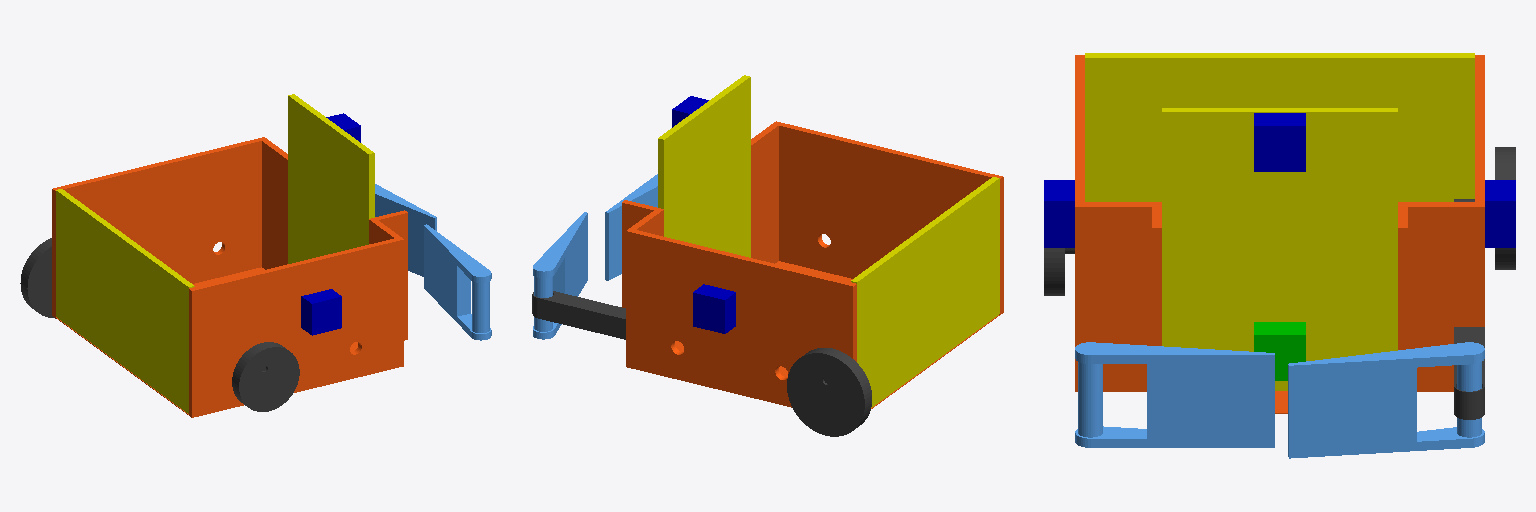
The robot description file, URDF, robot "final_description":
<?xml version="1.0" encoding="utf-8"?>

<robot
  name="final_description">

  <material name="black">
    <color rgba="0.0 0.0 0.0 1.0"/>
  </material>

  <material name="blue">
    <color rgba="0.0 0.0 0.8 1.0"/>
  </material>

  <material name="green">
    <color rgba="0.0 0.8 0.0 1.0"/>
  </material>

  <material name="grey">
    <color rgba="0.3 0.3 0.3 1.0"/>
  </material>

  <material name="orange">
    <color rgba="1 0.4 0.1 1"/>
  </material>

  <material name="red">
    <color rgba="0.8 0.0 0.0 1.0"/>
  </material>

  <material name="white">
    <color rgba="1.0 1.0 1.0 1.0"/>
  </material>

  <material name="yellow">
    <color rgba="0.9 0.9 0 1.0"/>
  </material>

  <material name="cyan">
    <color rgba="0.4 0.7 1 1.0"/>
  </material>

  <link
    name="base_link">
    <inertial>
      <origin
        xyz="0.045732 0.09332 1.1107E-16"
        rpy="0 0 0" />
      <mass
        value="2.0304" />
      <inertia
        ixx="0.072006"
        ixy="-0.00042676"
        ixz="-3.7413E-17"
        iyy="0.092836"
        iyz="-5.2298E-18"
        izz="0.036075" />
    </inertial>
    <visual>
      <origin
        xyz="0 0 0"
        rpy="0 0 0" />
      <geometry>
        <mesh
          filename="package://final_description/meshes/base_link.STL" />
      </geometry>
      <material
        name="orange">
      </material>
    </visual>
    <collision>
      <origin
        xyz="0 0 0"
        rpy="0 0 0" />
      <geometry>
        <mesh
          filename="package://final_description/meshes/base_link.STL" />
      </geometry>
    </collision>
  </link>
  <link
    name="B">
    <inertial>
      <origin
        xyz="0.005 0.1 2.2811E-17"
        rpy="0 0 0" />
      <mass
        value="0.76" />
      <inertia
        ixx="0.011679"
        ixy="1.0729E-20"
        ixz="1.7754E-20"
        iyy="0.0091517"
        iyz="1.7658E-19"
        izz="0.0025397" />
    </inertial>
    <visual>
      <origin
        xyz="0.175 0 0"
        rpy="0 0 0" />
      <geometry>
        <mesh
          filename="package://final_description/meshes/B.STL" />
      </geometry>
      <material
        name="yellow">
      </material>
    </visual>
    <collision>
      <origin
        xyz="0.175 0 0"
        rpy="0 0 0" />
      <geometry>
        <mesh
          filename="package://final_description/meshes/B.STL" />
      </geometry>
    </collision>
  </link>
  <joint
    name="BJ"
    type="prismatic">
    <origin
      xyz="-0.175 0 0.001"
      rpy="1.5708 0 0" />
    <parent
      link="base_link" />
    <child
      link="B" />
    <axis
      xyz="0 -1 0" />
    <limit
      lower="-0.15"
      upper="0"
      effort="10"
      velocity="0.1" />
    <!--safety_controller
      k_velocity="0" /-->
  </joint>
  <link
    name="FRW">
    <inertial>
      <origin
        xyz="-2.7756E-17 -3.7636E-05 -0.048156"
        rpy="0 0 0" />
      <mass
        value="0.16694" />
      <inertia
        ixx="0.00011342"
        ixy="0"
        ixz="2.647E-21"
        iyy="0.00011354"
        iyz="-6.1853E-08"
        izz="0.00019663" />
    </inertial>
    <visual>
      <origin
        xyz="0 0 0"
        rpy="0 0 0" />
      <geometry>
        <mesh
          filename="package://final_description/meshes/FRW.STL" />
      </geometry>
      <material
        name="grey">
      </material>
    </visual>
    <collision>
      <origin
        xyz="0 0 0"
        rpy="0 0 0" />
      <geometry>
        <mesh
          filename="package://final_description/meshes/FRW.STL" />
      </geometry>
    </collision>
  </link>
  <joint
    name="FRWJ"
    type="continuous">
    <origin
      xyz="0.095 -0.17 0.047"
      rpy="1.5707963267949 0.39309481042652 -3.14159265358979" />
    <parent
      link="base_link" />
    <child
      link="FRW" />
    <axis
      xyz="0 0 1" />
    <!--safety_controller
      k_velocity="0" /-->
  </joint>
  <link
    name="RRW">
    <inertial>
      <origin
        xyz="0 -3.7636E-05 -0.048156"
        rpy="0 0 0" />
      <mass
        value="0.16694" />
      <inertia
        ixx="0.00011342"
        ixy="1.0164E-20"
        ixz="2.6933E-21"
        iyy="0.00011354"
        iyz="-6.1853E-08"
        izz="0.00019663" />
    </inertial>
    <visual>
      <origin
        xyz="0 0 0"
        rpy="0 0 0" />
      <geometry>
        <mesh
          filename="package://final_description/meshes/RRW.STL" />
      </geometry>
      <material
        name="grey">
      </material>
    </visual>
    <collision>
      <origin
        xyz="0 0 0"
        rpy="0 0 0" />
      <geometry>
        <mesh
          filename="package://final_description/meshes/RRW.STL" />
      </geometry>
    </collision>
  </link>
  <joint
    name="RRWJ"
    type="continuous">
    <origin
      xyz="-0.065 -0.17 0.047"
      rpy="1.5707963267949 0.393094810426521 -3.14159265358979" />
    <parent
      link="base_link" />
    <child
      link="RRW" />
    <axis
      xyz="0 0 1" />
    <!--safety_controller
      k_velocity="0" /-->
  </joint>
  <link
    name="FLW">
    <inertial>
      <origin
        xyz="1.3878E-17 -3.7636E-05 -0.048156"
        rpy="0 0 0" />
      <mass
        value="0.16694" />
      <inertia
        ixx="0.00011342"
        ixy="-3.1238E-22"
        ixz="-9.8323E-22"
        iyy="0.00011354"
        iyz="-6.1853E-08"
        izz="0.00019663" />
    </inertial>
    <visual>
      <origin
        xyz="0 0 0"
        rpy="0 0 0" />
      <geometry>
        <mesh
          filename="package://final_description/meshes/FLW.STL" />
      </geometry>
      <material
        name="grey">
      </material>
    </visual>
    <collision>
      <origin
        xyz="0 0 0"
        rpy="0 0 0" />
      <geometry>
        <mesh
          filename="package://final_description/meshes/FLW.STL" />
      </geometry>
    </collision>
  </link>
  <joint
    name="FLWJ"
    type="continuous">
    <origin
      xyz="0.095 0.17 0.047"
      rpy="1.5707963267949 0 0" />
    <parent
      link="base_link" />
    <child
      link="FLW" />
    <axis
      xyz="0 0 -1" />
    <!--safety_controller
      k_velocity="0" /-->
  </joint>
  <link
    name="RLW">
    <inertial>
      <origin
        xyz="0 -3.7636E-05 -0.048156"
        rpy="0 0 0" />
      <mass
        value="0.16694" />
      <inertia
        ixx="0.00011342"
        ixy="-2.065E-22"
        ixz="-9.8323E-22"
        iyy="0.00011354"
        iyz="-6.1853E-08"
        izz="0.00019663" />
    </inertial>
    <visual>
      <origin
        xyz="0 0 0"
        rpy="0 0 0" />
      <geometry>
        <mesh
          filename="package://final_description/meshes/RLW.STL" />
      </geometry>
      <material
        name="grey">
      </material>
    </visual>
    <collision>
      <origin
        xyz="0 0 0"
        rpy="0 0 0" />
      <geometry>
        <mesh
          filename="package://final_description/meshes/RLW.STL" />
      </geometry>
    </collision>
  </link>
  <joint
    name="RLWJ"
    type="continuous">
    <origin
      xyz="-0.065 0.17 0.047"
      rpy="1.5707963267949 0 0" />
    <parent
      link="base_link" />
    <child
      link="RLW" />
    <axis
      xyz="0 0 -1" />
    <!--safety_controller
      k_velocity="0" /-->
  </joint>
  <link
    name="RC">
    <inertial>
      <origin
        xyz="0.015 0 0"
        rpy="0 0 0" />
      <mass
        value="0.075" />
      <inertia
        ixx="3.125E-05"
        ixy="-1.6263E-22"
        ixz="4.2352E-22"
        iyy="2.125E-05"
        iyz="-1.0334E-21"
        izz="2.125E-05" />
    </inertial>
    <visual>
      <origin
        xyz="0 0 0"
        rpy="0 0 0" />
      <geometry>
        <mesh
          filename="package://final_description/meshes/RC.STL" />
      </geometry>
      <material
        name="blue">
      </material>
    </visual>
    <collision>
      <origin
        xyz="0 0 0"
        rpy="0 0 0" />
      <geometry>
        <mesh
          filename="package://final_description/meshes/RC.STL" />
      </geometry>
    </collision>
  </link>
  <joint
    name="RCJ"
    type="fixed">
    <origin
      xyz="0.03 -0.23 0.125"
      rpy="1.5707963267949 0 1.5707963267949" />
    <parent
      link="base_link" />
    <child
      link="RC" />
    <axis
      xyz="0 0 0" />
    <safety_controller
      k_velocity="0" />
  </joint>
  <link
    name="LC">
    <inertial>
      <origin
        xyz="0.015 0 0"
        rpy="0 0 0" />
      <mass
        value="0.075" />
      <inertia
        ixx="3.125E-05"
        ixy="1.6263E-22"
        ixz="-4.2352E-22"
        iyy="2.125E-05"
        iyz="-1.0334E-21"
        izz="2.125E-05" />
    </inertial>
    <visual>
      <origin
        xyz="0 0 0"
        rpy="0 0 0" />
      <geometry>
        <mesh
          filename="package://final_description/meshes/LC.STL" />
      </geometry>
      <material
        name="blue">
      </material>
    </visual>
    <collision>
      <origin
        xyz="0 0 0"
        rpy="0 0 0" />
      <geometry>
        <mesh
          filename="package://final_description/meshes/LC.STL" />
      </geometry>
    </collision>
  </link>
  <joint
    name="LCJ"
    type="fixed">
    <origin
      xyz="0.03 0.23 0.125"
      rpy="-1.5707963267949 0 -1.5707963267949" />
    <parent
      link="base_link" />
    <child
      link="LC" />
    <axis
      xyz="0 0 0" />
    <safety_controller
      k_velocity="0" />
  </joint>
  <link
    name="RA">
    <inertial>
      <origin
        xyz="0.064226 0 0"
        rpy="0 0 0" />
      <mass
        value="0.11493" />
      <inertia
        ixx="1.7546E-05"
        ixy="1.3293E-21"
        ixz="-5.3917E-21"
        iyy="0.0001712"
        iyz="-2.9655E-21"
        izz="0.00017089" />
    </inertial>
    <visual>
      <origin
        xyz="0 0 0"
        rpy="0 0 0" />
      <geometry>
        <mesh
          filename="package://final_description/meshes/RA.STL" />
      </geometry>
      <material
        name="grey">
      </material>
    </visual>
    <collision>
      <origin
        xyz="0 0 0"
        rpy="0 0 0" />
      <geometry>
        <mesh
          filename="package://final_description/meshes/RA.STL" />
      </geometry>
    </collision>
  </link>
  <joint
    name="RAJ"
    type="fixed">
    <origin
      xyz="0.175 -0.185 0.055"
      rpy="1.5707963267949 0 0" />
    <parent
      link="base_link" />
    <child
      link="RA" />
    <axis
      xyz="0 0 0" />
    <safety_controller
      k_velocity="0" />
  </joint>
  <link
    name="RF">
    <inertial>
      <origin
        xyz="0.075327 1.3878E-17 0.0052437"
        rpy="0 0 0" />
      <mass
        value="0.24614" />
      <inertia
        ixx="0.00024699"
        ixy="1.1698E-20"
        ixz="-4.7172E-05"
        iyy="0.00069522"
        iyz="3.0415E-20"
        izz="0.00092098" />
    </inertial>
    <visual>
      <origin
        xyz="-0.31 -0.05 -0.185"
        rpy="0 0 0" />
      <geometry>
        <mesh
          filename="package://final_description/meshes/RF.STL" />
      </geometry>
      <material
        name="cyan">
      </material>
    </visual>
    <collision>
      <origin
        xyz="-0.31 -0.05 -0.185"
        rpy="0 0 0" />
      <geometry>
        <mesh
          filename="package://final_description/meshes/RF.STL" />
      </geometry>
    </collision>
  </link>
  <joint
    name="RFJ"
    type="revolute">
    <origin
      xyz="0.135 0 0"
      rpy="0 0.7854 0" />
    <parent
      link="RA" />
    <child
      link="RF" />
    <axis
      xyz="0 1 0" />
    <limit
      lower="-1.5"
      upper="0.2"
      effort="100"
      velocity="0.125" />
    <!--safety_controller
      k_velocity="0" /-->
  </joint>
  <link
    name="LA">
    <inertial>
      <origin
        xyz="0.064226 0 0"
        rpy="0 0 0" />
      <mass
        value="0.11493" />
      <inertia
        ixx="1.7546E-05"
        ixy="5.6286E-21"
        ixz="2.0529E-21"
        iyy="0.0001712"
        iyz="-2.9655E-21"
        izz="0.00017089" />
    </inertial>
    <visual>
      <origin
        xyz="-0.175 -0.055 0.185"
        rpy="0 0 0" />
      <geometry>
        <mesh
          filename="package://final_description/meshes/LA.STL" />
      </geometry>
      <material
        name="grey">
      </material>
    </visual>
    <collision>
      <origin
        xyz="-0.175 -0.055 0.185"
        rpy="0 0 0" />
      <geometry>
        <mesh
          filename="package://final_description/meshes/LA.STL" />
      </geometry>
    </collision>
  </link>
  <joint
    name="LAJ"
    type="fixed">
    <origin
      xyz="0.175 0.185 0.055"
      rpy="1.5708 0 0" />
    <parent
      link="base_link" />
    <child
      link="LA" />
    <axis
      xyz="0 0 0" />
    <safety_controller
      k_velocity="0" />
  </joint>
  <link
    name="LF">
    <inertial>
      <origin
        xyz="0.075327 6.9389E-18 0.0052437"
        rpy="0 0 0" />
      <mass
        value="0.24614" />
      <inertia
        ixx="0.00024699"
        ixy="2.2224E-20"
        ixz="-4.7172E-05"
        iyy="0.00069522"
        iyz="-1.3368E-20"
        izz="0.00092098" />
    </inertial>
    <visual>
      <origin
        xyz="-0.31 -0.05 0.185"
        rpy="0 0 0" />
      <geometry>
        <mesh
          filename="package://final_description/meshes/LF.STL" />
      </geometry>
      <material
        name="cyan">
      </material>
    </visual>
    <collision>
      <origin
        xyz="-0.31 -0.05 0.185"
        rpy="0 0 0" />
      <geometry>
        <mesh
          filename="package://final_description/meshes/LF.STL" />
      </geometry>
    </collision>
  </link>
  <joint
    name="LFJ"
    type="revolute">
    <origin
      xyz="0.135 0 0"
      rpy="0 -0.64739 0" />
    <parent
      link="LA" />
    <child
      link="LF" />
    <axis
      xyz="0 1 0" />
    <limit
      lower="-0.34"
      upper="1.36"
      effort="100"
      velocity="0.125" />
    <!--safety_controller
      k_velocity="0" /-->
  </joint>
  <link
    name="F">
    <inertial>
      <origin
        xyz="0 0 0"
        rpy="0 0 0" />
      <mass
        value="0" />
      <inertia
        ixx="0"
        ixy="0"
        ixz="0"
        iyy="0"
        iyz="0"
        izz="0" />
    </inertial>
    <visual>
      <origin
        xyz="-0.165 0 0"
        rpy="0 0 0" />
      <geometry>
        <mesh
          filename="package://final_description/meshes/F.STL" />
      </geometry>
      <material
        name="yellow">
      </material>
    </visual>
    <collision>
      <origin
        xyz="0 0 0"
        rpy="0 0 0" />
      <geometry>
        <mesh
          filename="package://final_description/meshes/F.STL" />
      </geometry>
    </collision>
  </link>
  <joint
    name="FJ"
    type="prismatic">
    <origin
      xyz="0.165 0 0.001"
      rpy="1.5708 0 0" />
    <parent
      link="base_link" />
    <child
      link="F" />
    <axis
      xyz="0 -1 0" />
    <limit
      lower="-0.18"
      upper="0"
      effort="10"
      velocity="0.1" />
    <!--safety_controller
      k_velocity="0" /-->
  </joint>
  <link
    name="FC">
    <inertial>
      <origin
        xyz="0.015 0 1.3105E-16"
        rpy="0 0 0" />
      <mass
        value="0.075" />
      <inertia
        ixx="3.125E-05"
        ixy="5.4323E-22"
        ixz="-2.4651E-36"
        iyy="2.125E-05"
        iyz="-1.8149E-21"
        izz="2.125E-05" />
    </inertial>
    <visual>
      <origin
        xyz="0 0 0"
        rpy="0 0 0" />
      <geometry>
        <mesh
          filename="package://final_description/meshes/FC.STL" />
      </geometry>
      <material
        name="blue">
      </material>
    </visual>
    <collision>
      <origin
        xyz="0 0 0"
        rpy="0 0 0" />
      <geometry>
        <mesh
          filename="package://final_description/meshes/FC.STL" />
      </geometry>
    </collision>
  </link>
  <joint
    name="FCJ"
    type="fixed">
    <origin
      xyz="0.01 0.275 0"
      rpy="0 0 0" />
    <parent
      link="F" />
    <child
      link="FC" />
    <axis
      xyz="0 0 0" />
    <!--safety_controller
      k_velocity="0" /-->
  </joint>
  <link
    name="L">
    <inertial>
      <origin
        xyz="0.025 1.3878E-17 1.1371E-16"
        rpy="0 0 0" />
      <mass
        value="0.075" />
      <inertia
        ixx="3.125E-05"
        ixy="2.5429E-36"
        ixz="-5.8031E-37"
        iyy="2.125E-05"
        iyz="-2.9499E-21"
        izz="2.125E-05" />
    </inertial>
    <visual>
      <origin
        xyz="0 0 0"
        rpy="0 0 0" />
      <geometry>
        <mesh
          filename="package://final_description/meshes/L.STL" />
      </geometry>
      <material
        name="green">
      </material>
    </visual>
    <collision>
      <origin
        xyz="0 0 0"
        rpy="0 0 0" />
      <geometry>
        <mesh
          filename="package://final_description/meshes/L.STL" />
      </geometry>
    </collision>
  </link>
  <joint
    name="LJ"
    type="fixed">
    <origin
      xyz="0 0.05 0"
      rpy="0 0 0" />
    <parent
      link="F" />
    <child
      link="L" />
    <axis
      xyz="0 0 0" />
    <!--safety_controller
      k_velocity="0" /-->
  </joint>
  
  <!--LiDAR-->
  <link name="hokuyo_link">
    <collision>
      <origin xyz="0 0 0" rpy="0 0 0"/>
      <geometry>
    <box size="0.1 0.1 0.1"/>
      </geometry>
    </collision>

    <visual>
      <origin xyz="0 0 0" rpy="0 0 0"/>
      <geometry>
        <mesh filename="package://final_description/meshes/hokuyo.dae"/>
      </geometry>
    </visual>

    <inertial>
      <mass value="1e-5" />
      <origin xyz="0 0 0" rpy="0 0 0"/>
      <inertia ixx="1e-6" ixy="0" ixz="0" iyy="1e-6" iyz="0" izz="1e-6" />
    </inertial>
  </link>

  <joint name="hokuyo_joint" type="fixed">
    <origin
      xyz="0.04 0.05 0"
      rpy="-1.57 0 0" />
    <parent
      link="F" />
	<child link="hokuyo_link"/>
    <axis
      xyz="0 1 0" />
    <!-- <safety_controller
      k_velocity="0" /> -->
  </joint>

   <gazebo reference="hokuyo_link">
    <sensor type="ray" name="head_hokuyo_sensor">
      <pose>0 0 0 0 0 0</pose>
      <visualize>true</visualize>
      <update_rate>40</update_rate>
      <ray>
        <scan>
          <horizontal>
            <samples>21</samples>
            <resolution>1</resolution>
            <min_angle>-0.000001</min_angle>
            <max_angle>0.000001</max_angle>
          </horizontal>
        </scan>
        <range>
          <min>0.20</min>
          <max>3.0</max>
          <resolution>0.01</resolution>
        </range>
        <noise>
          <type>gaussian</type>
          <!-- Noise parameters based on published spec for Hokuyo laser
               achieving "+-30mm" accuracy at range < 10m.  A mean of 0.0m and
               stddev of 0.01m will put 99.7% of samples within 0.03m of the true
               reading. -->
          <mean>0.0</mean>
          <stddev>0.01</stddev>
        </noise>
      </ray>
      <plugin name="gazebo_ros_head_hokuyo_controller" filename="libgazebo_ros_laser.so">
        <topicName>/umic_bot/laser/scan</topicName>
        <frameName>hokuyo_link</frameName>
      </plugin>
    </sensor>
  </gazebo>


  <!--Physical parameters-->
    <gazebo reference="FLW">
      <mu1 value="200.0"/>
      <mu2 value="100.0"/>
      <kp value="10000000.0" />
      <kd value="1.0" />
    </gazebo>  

    <gazebo reference="FLW">
      <mu1 value="200.0"/>
      <mu2 value="100.0"/>
      <kp value="10000000.0" />
      <kd value="1.0" />
    </gazebo>  

    <gazebo reference="FLW">
      <mu1 value="200.0"/>
      <mu2 value="100.0"/>
      <kp value="10000000.0" />
      <kd value="1.0" />
    </gazebo>  

    <gazebo reference="FLW">
      <mu1 value="200.0"/>
      <mu2 value="100.0"/>
      <kp value="10000000.0" />
      <kd value="1.0" />
    </gazebo>  

  <!--Differential_Transmissions-->
    <transmission name="FLW_trans">
      <type>transmission_interface/SimpleTransmission</type>
      <actuator name="FLW_wheel_motor">
        <mechanicalReduction>1</mechanicalReduction>
      </actuator>
      <joint name="FLWJ">
        <hardwareInterface>VelocityJointInterface</hardwareInterface>
      </joint>
    </transmission>

    <transmission name="FRW_trans">
      <type>transmission_interface/SimpleTransmission</type>
      <actuator name="FRW_wheel_motor">
        <mechanicalReduction>1</mechanicalReduction>
      </actuator>
      <joint name="FRWJ">
        <hardwareInterface>VelocityJointInterface</hardwareInterface>
      </joint>
    </transmission>

    <transmission name="RLW_trans">
      <type>transmission_interface/SimpleTransmission</type>
      <actuator name="RLW_wheel_motor">
        <mechanicalReduction>1</mechanicalReduction>
      </actuator>
      <joint name="RLWJ">
        <hardwareInterface>VelocityJointInterface</hardwareInterface>
      </joint>
    </transmission>

    <transmission name="RRW_trans">
      <type>transmission_interface/SimpleTransmission</type>
      <actuator name="RRW_wheel_motor">
        <mechanicalReduction>1</mechanicalReduction>
      </actuator>
      <joint name="RRWJ">
        <hardwareInterface>VelocityJointInterface</hardwareInterface>
      </joint>
    </transmission>

  <!--Gates_Transmission-->
    <transmission name="Front_Gate_Trans" type="SimpleTransmission">
      <type>transmission_interface/SimpleTransmission</type>
      <actuator name="Front_Gate_motor">
        <mechanicalReduction>1</mechanicalReduction>
      </actuator>
      <joint name="FJ">
        <hardwareInterface>EffortJointInterface</hardwareInterface>
      </joint>
    </transmission>

    <transmission name="Back_Gate_Trans" type="SimpleTransmission">
      <type>transmission_interface/SimpleTransmission</type>
      <actuator name="Back_Gate_Motor">
        <mechanicalReduction>1</mechanicalReduction>
      </actuator>
      <joint name="BJ">
        <hardwareInterface>EffortJointInterface</hardwareInterface>
      </joint>
    </transmission>

  <!--Flaps Transmission-->
    <transmission name="left_flap_Trans" type="SimpleTransmission">
      <type>transmission_interface/SimpleTransmission</type>
      <actuator name="left_flap_motor">
        <mechanicalReduction>1</mechanicalReduction>
      </actuator>
      <joint name="LFJ">
        <hardwareInterface>EffortJointInterface</hardwareInterface>
      </joint>
    </transmission>

    <transmission name="right_flap_Trans" type="SimpleTransmission">
      <type>transmission_interface/SimpleTransmission</type>
      <actuator name="right_flap_motor">
        <mechanicalReduction>1</mechanicalReduction>
      </actuator>
      <joint name="RFJ">
        <hardwareInterface>EffortJointInterface</hardwareInterface>
      </joint>
    </transmission>
   
  <!-- Gazebo plugin for ROS Control -->
   <gazebo>
     <plugin name="gazebo_ros_control" filename="libgazebo_ros_control.so">
     </plugin>
   </gazebo>

</robot>

--- Facts derived from the render (not from the file) ---
3 views of the same robot in one strip: view 1: azimuth 30°, elevation 25°; view 2: azimuth 150°, elevation 25°; view 3: azimuth 270°, elevation 25° (orthographic).
Model final_description with 16 links and 15 joints (2 revolute, 4 continuous, 2 prismatic, 7 fixed), rooted at base_link, posed all joints at 0.
Visible links, largest first — view 1: base_link, B, F, RF, RRW, LF, RLW, RC; view 2: base_link, B, F, RLW, LF, LA, RF, LC; view 3: F, B, base_link, RF, LF, FC, L, RC, LC, LA, RLW, RRW.
Link boxes in pixels (x1=…): base_link: x1=52, y1=137, x2=407, y2=417; B: x1=56, y1=189, x2=194, y2=413; F: x1=288, y1=94, x2=374, y2=263; RF: x1=424, y1=224, x2=491, y2=340; RRW: x1=232, y1=342, x2=299, y2=411; LF: x1=375, y1=184, x2=436, y2=276; RLW: x1=20, y1=238, x2=55, y2=318; RC: x1=301, y1=289, x2=341, y2=335; base_link: x1=622, y1=121, x2=1003, y2=408; B: x1=851, y1=177, x2=999, y2=407; F: x1=658, y1=75, x2=750, y2=257; RLW: x1=787, y1=348, x2=871, y2=436; LF: x1=533, y1=212, x2=587, y2=339; LA: x1=532, y1=291, x2=625, y2=339; RF: x1=605, y1=174, x2=657, y2=280; LC: x1=693, y1=284, x2=735, y2=333; F: x1=1162, y1=108, x2=1397, y2=390; B: x1=1085, y1=53, x2=1474, y2=201; base_link: x1=1075, y1=55, x2=1484, y2=413; RF: x1=1075, y1=342, x2=1274, y2=447; LF: x1=1288, y1=342, x2=1484, y2=458; FC: x1=1254, y1=113, x2=1305, y2=171; L: x1=1254, y1=322, x2=1305, y2=380; RC: x1=1044, y1=180, x2=1074, y2=247; LC: x1=1485, y1=180, x2=1515, y2=247; LA: x1=1454, y1=327, x2=1484, y2=419; RLW: x1=1454, y1=147, x2=1515, y2=269; RRW: x1=1044, y1=248, x2=1074, y2=295.
Size in the robot's own frame: 0.5594 by 0.46 by 0.315 metres.
12 mesh visuals loaded from 16 distinct referenced files (12 binary STL); not drawn: 4 (reference not matched to a file when rendering).
